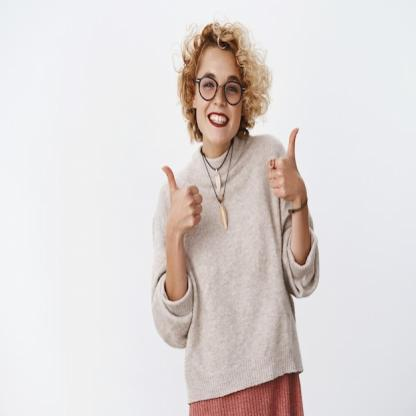thumb_up: (264, 124, 306, 204), (160, 161, 204, 237)
